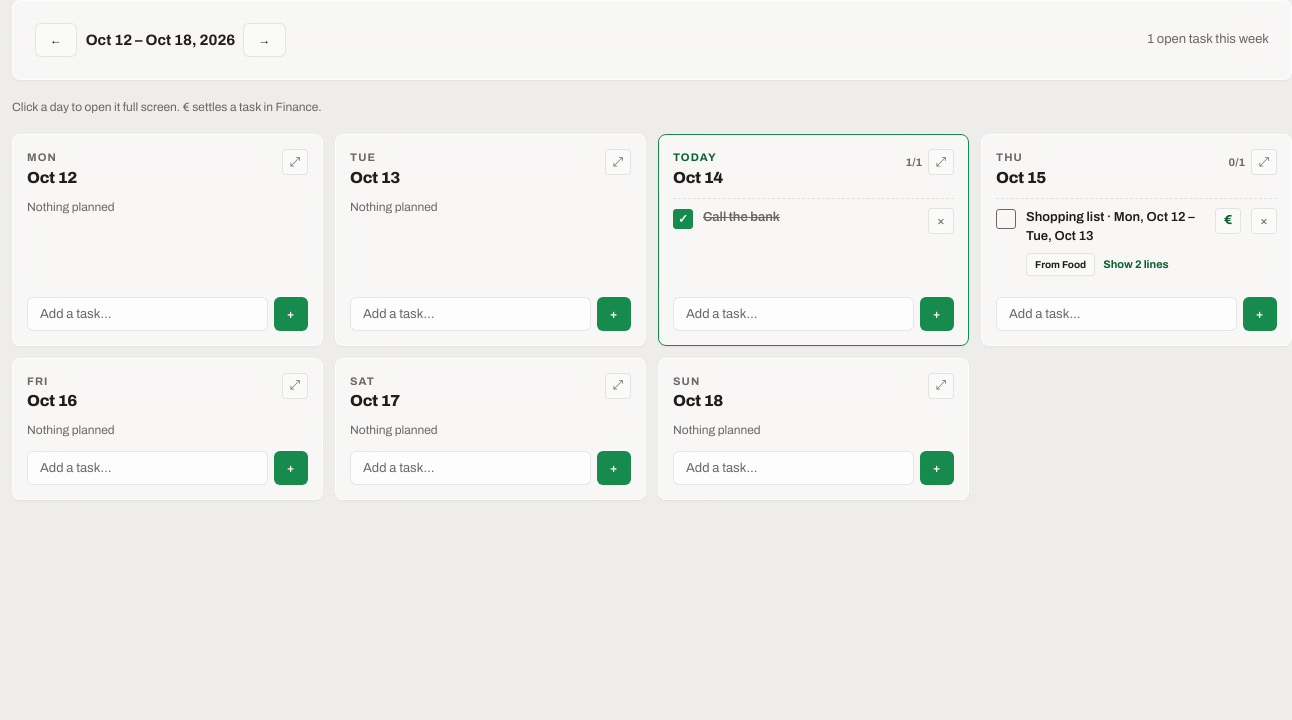
Plans week › deletes a task
Click the button named "Remove Call the bank" at {"x": 941, "y": 220}, box [928,208,954,234]
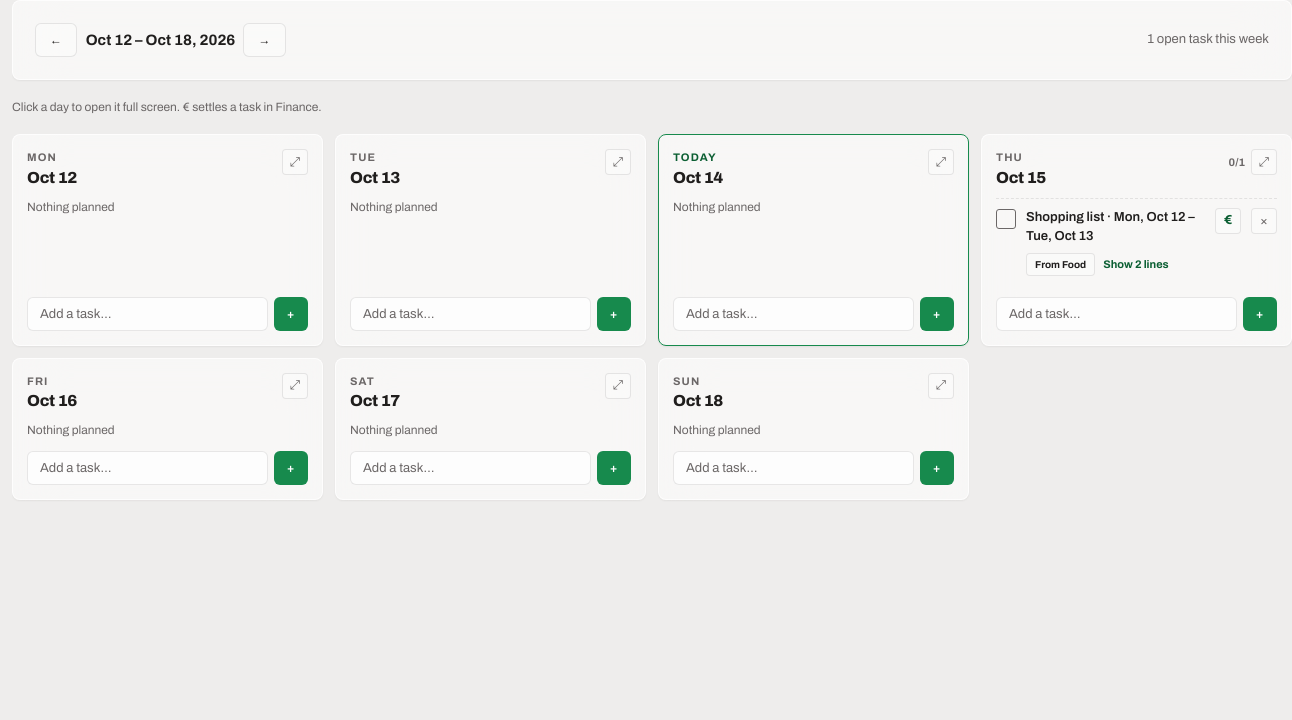
Result: the text "Call the bank" is gone
